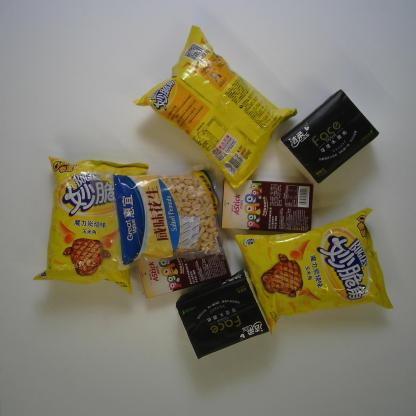Dessert: (220, 178, 314, 234), (137, 249, 233, 300)
Dried Fruit: (89, 159, 238, 277)
Puffed Food: (132, 24, 299, 191), (233, 206, 395, 338), (32, 155, 151, 296)
Tissue: (275, 87, 380, 188), (174, 269, 271, 360)
